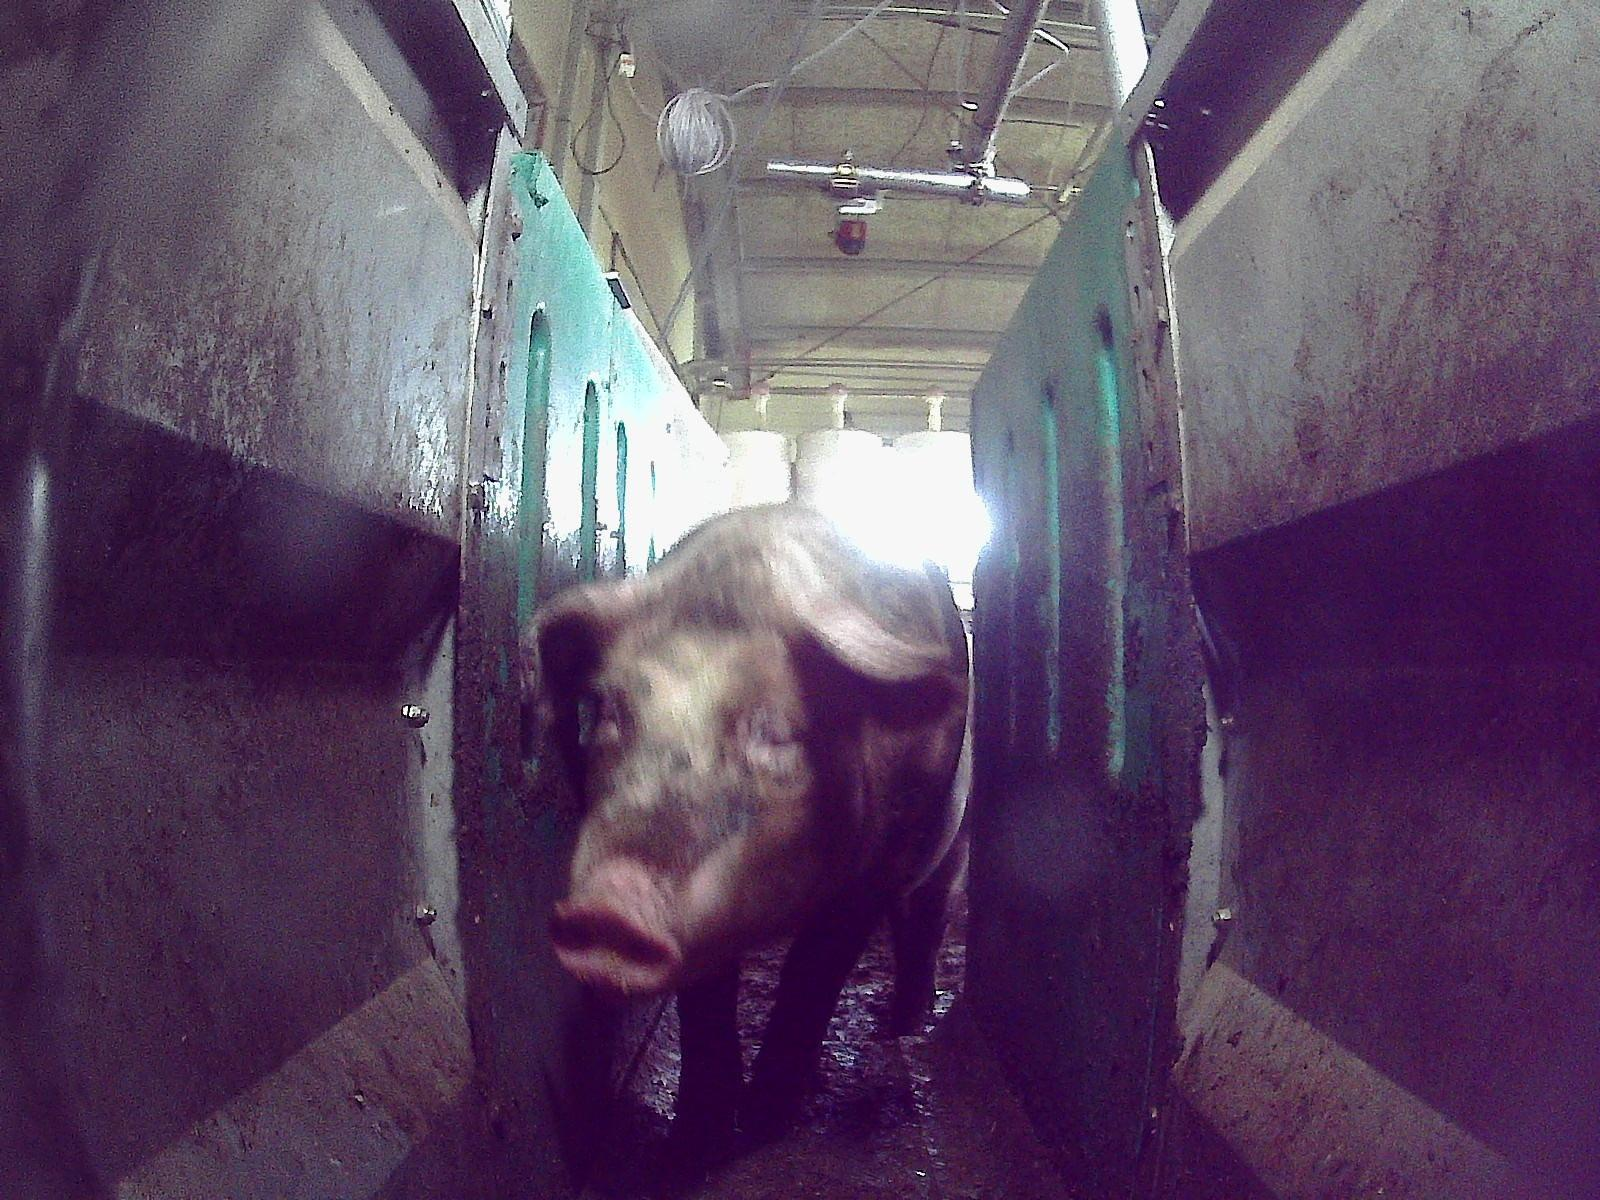Face: (553, 614, 838, 992)
